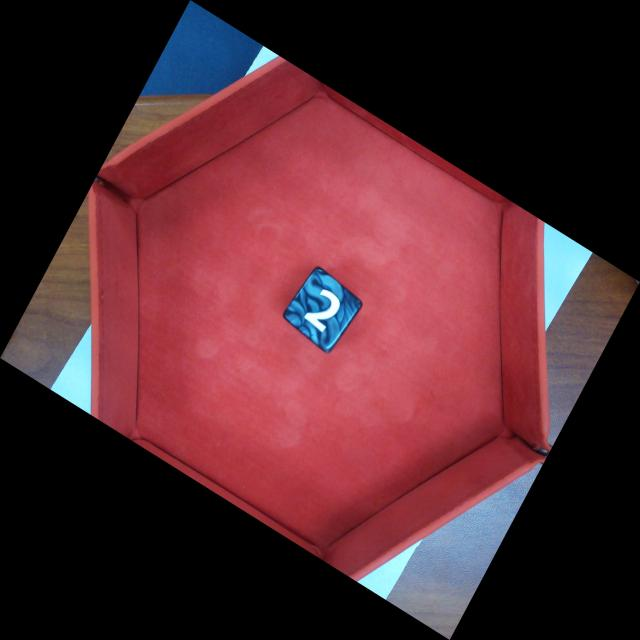dice: (283, 266, 363, 353)
